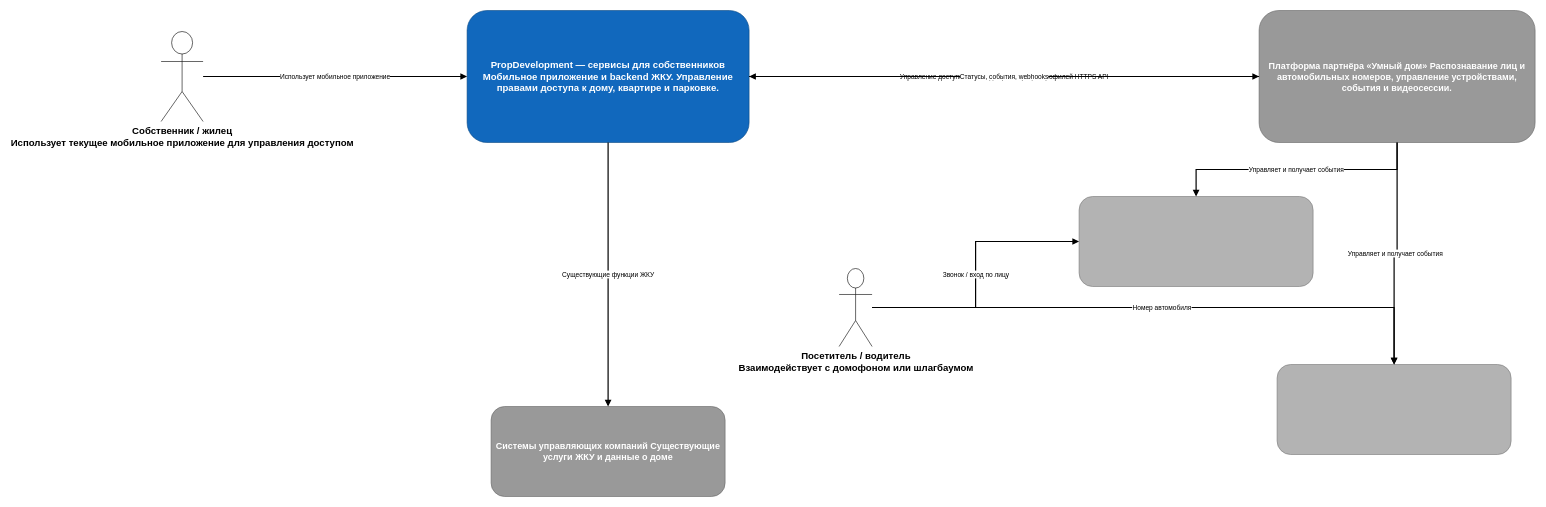
This 1546x507 diagram has some shape labels left out. The shapes that lost their labels are listed below. From the top down, each one's centre as x and y in pixels, then its label:
[1195,241]: Интеллектуальный домофон Звонок, видео, ручное открытие, распознавание лица
[1393,409]: Интеллектуальный шлагбаум Ручное открытие, распознавание номерного знака
